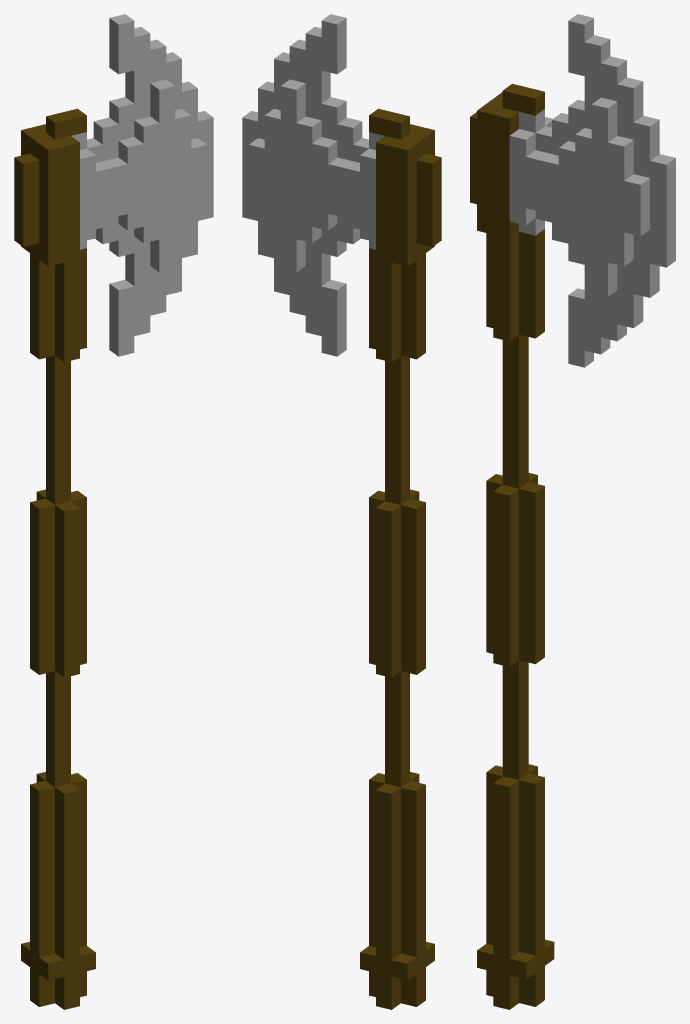
The model's file is BigAxe.fbx.
The picture shows the model from 3 angles, left to right: view 1: azimuth 30°, elevation 25°; view 2: azimuth 150°, elevation 25°; view 3: azimuth 330°, elevation 25°; orthographic projection. The views are drawn at different scales.
Visible parts, largest first — view 1: BigAxe; view 2: BigAxe; view 3: BigAxe.
Part boxes in pixels (<box>): BigAxe: <box>14,14,213,1009</box>; BigAxe: <box>242,14,441,1009</box>; BigAxe: <box>470,14,675,1009</box>.
Bounding box in the file's own units: 120 × 580 × 30.
